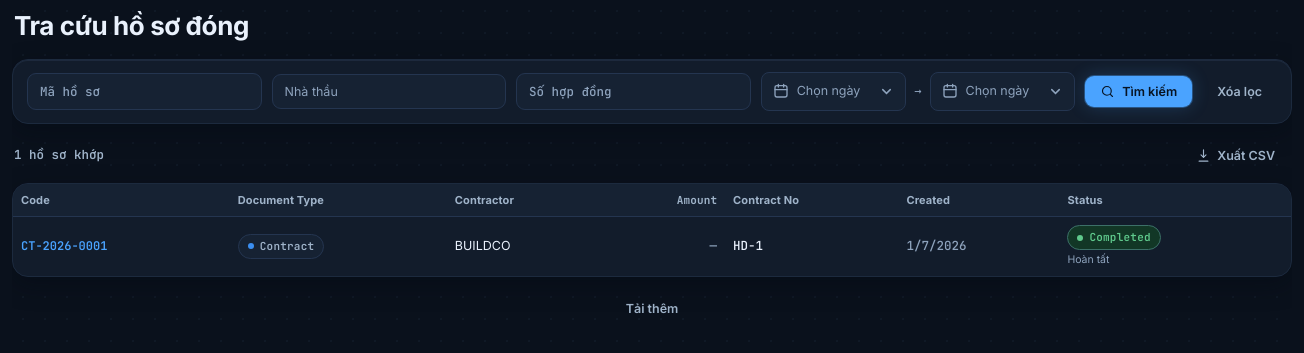
Test: ClosedTickets (FR-17 lookup) › pages the archive with "Tải thêm" (appends the next keyset page)
Expected: the button "CT-2026-0001" is shown, [21,238,107,254]
Click the button "Tải thêm". click: (652, 308)
box: [611,292,693,324]
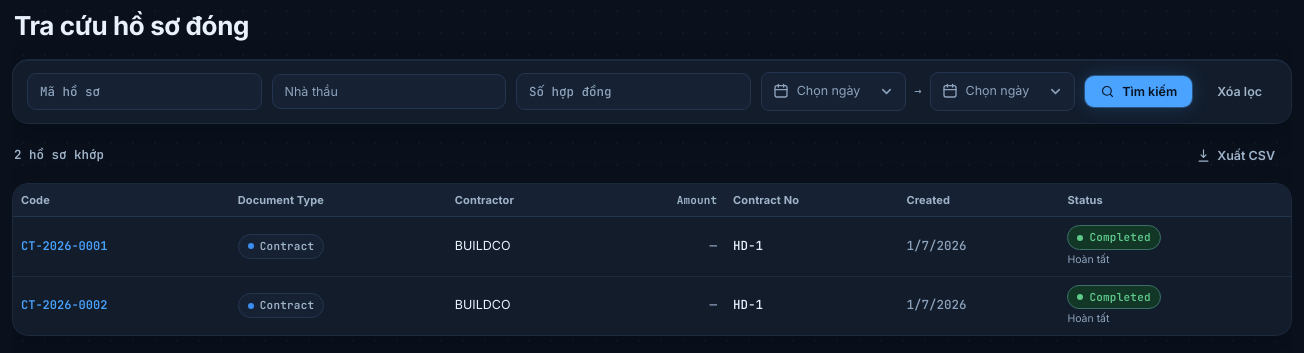
Expected: the button "CT-2026-0001" is shown, [21,238,107,254]
Result: the button "CT-2026-0002" is shown at [21,297,107,313]
Result: the button "Tải thêm" is gone
